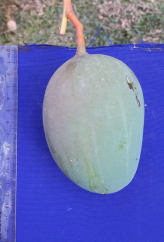Mango-sano: (43, 0, 144, 193)
